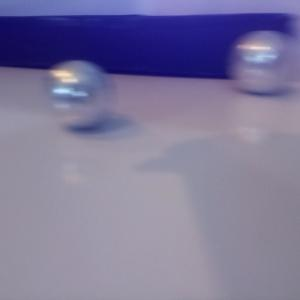zone: (1, 14, 289, 82)
